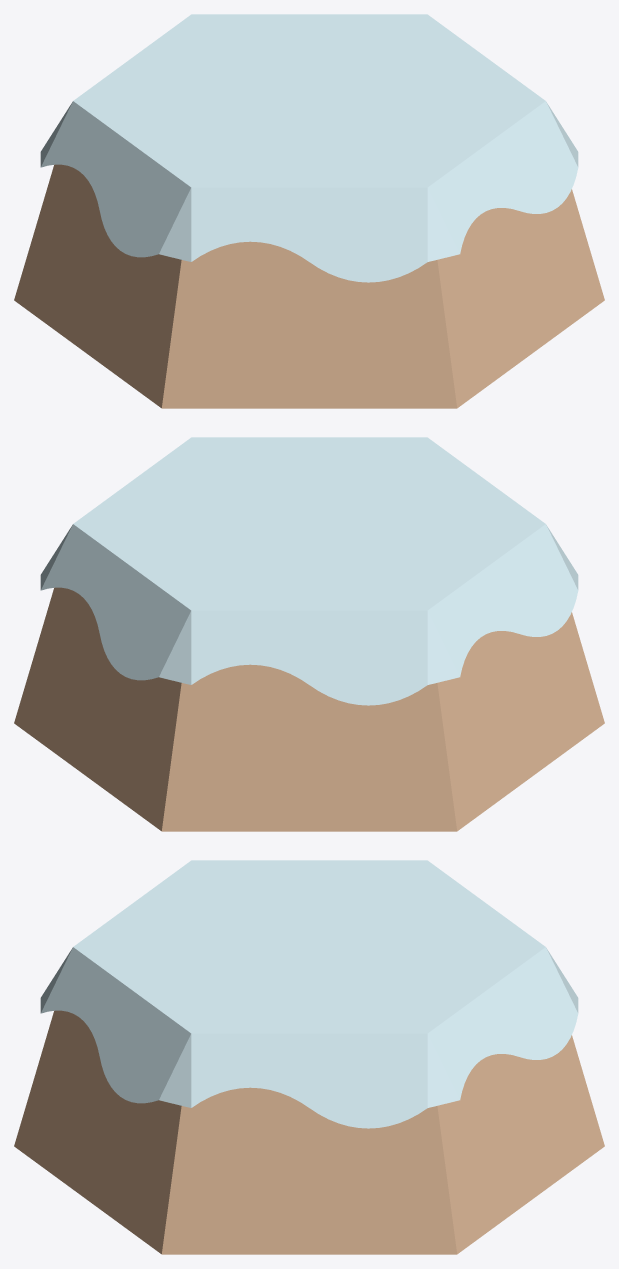
Rendered from blockSnowHexagonLow.glb.
The picture shows the model from 3 angles, top to bottom: view 1: azimuth 30°, elevation 25°; view 2: azimuth 150°, elevation 25°; view 3: azimuth 270°, elevation 25°; orthographic projection.
Parts seen in each view (by area): view 1: blockSnowHexagonLow(Clone); view 2: blockSnowHexagonLow(Clone); view 3: blockSnowHexagonLow(Clone).
Part boxes in pixels (x1,y1,x2,y2): blockSnowHexagonLow(Clone): [14, 14, 604, 408]; blockSnowHexagonLow(Clone): [14, 437, 604, 831]; blockSnowHexagonLow(Clone): [14, 860, 604, 1254].
Bounding box in the file's own units: 1 × 0.4298 × 1.15.
